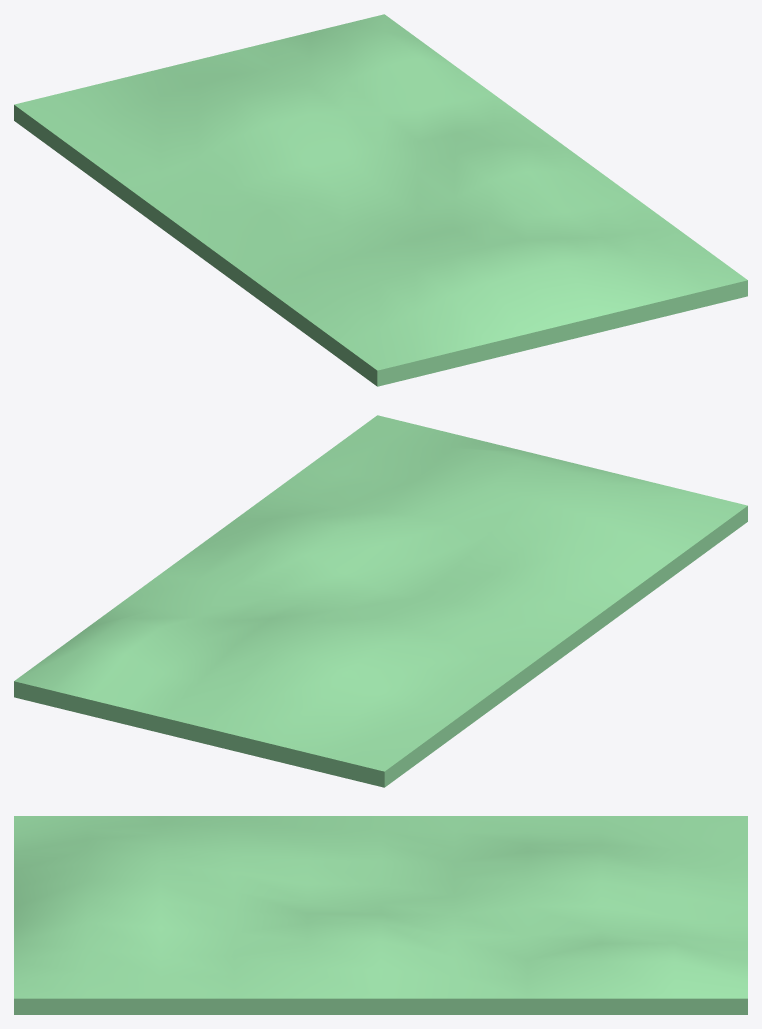
File: grass.fbx
3 renders of one model, top to bottom at view 1: azimuth 30°, elevation 25°; view 2: azimuth 150°, elevation 25°; view 3: azimuth 270°, elevation 25°, orthographic.
Parts seen in each view (by area): view 1: grass; view 2: grass; view 3: grass.
Boxes of the visible parts, x1,y1,x2,y2 form: grass: [14, 14, 747, 386]; grass: [14, 415, 747, 787]; grass: [14, 816, 747, 1014].
Size of the model in its own units: 58.11 by 6.48 by 98.71.
